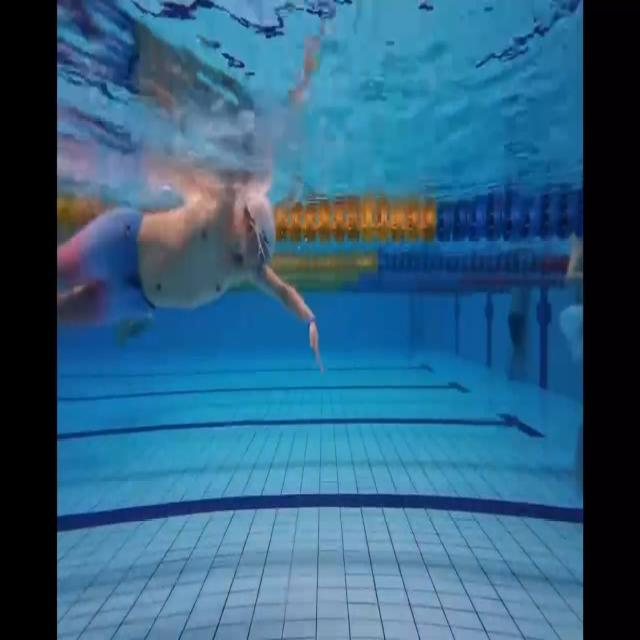Swimming: (57, 188, 322, 366)
